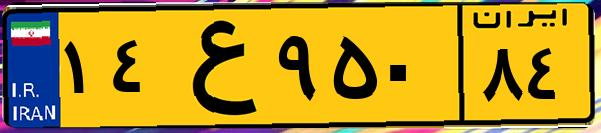0: (385, 28, 445, 110)
1: (57, 26, 110, 100)
4: (525, 38, 570, 115), (110, 28, 158, 98)
5: (330, 28, 385, 110)
8: (475, 38, 525, 113)
9: (270, 28, 330, 110)
ع: (158, 12, 270, 120)
